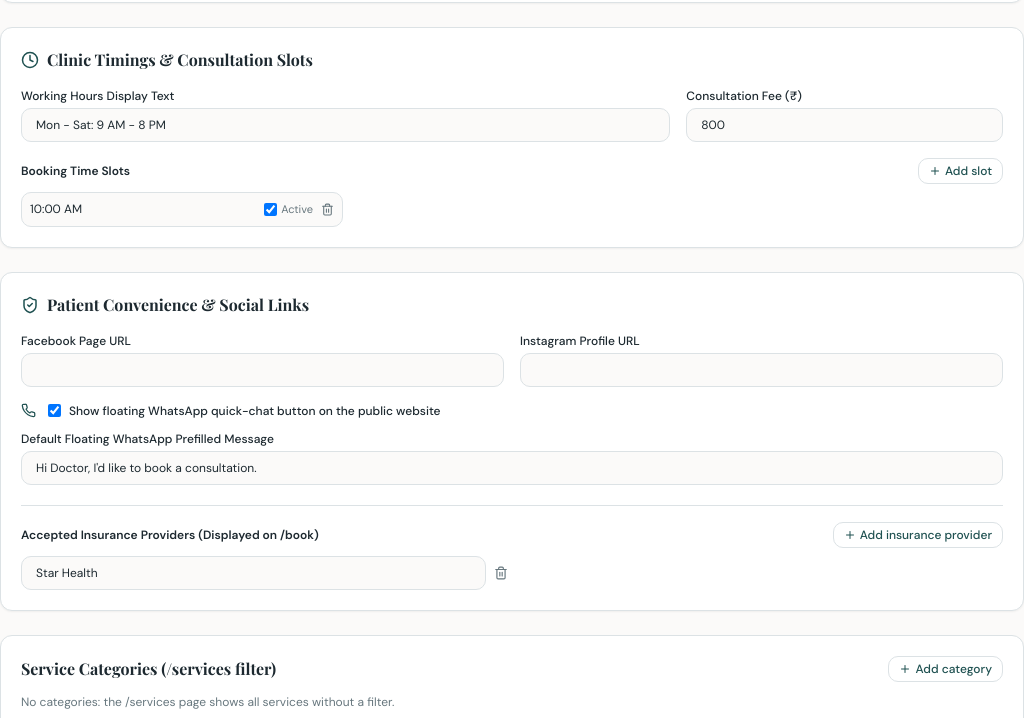
Test case: Clinic Information draft workflow (005c) › CLINIC-DRAFT-04: invalid links are stopped before submission
This screenshot has width=1024, height=718.
(page scrolled)
Type "javascript:alert(1)" into the field labelled "Facebook Page URL" at point(262, 370), box [21,352,504,386]
(page scrolled)
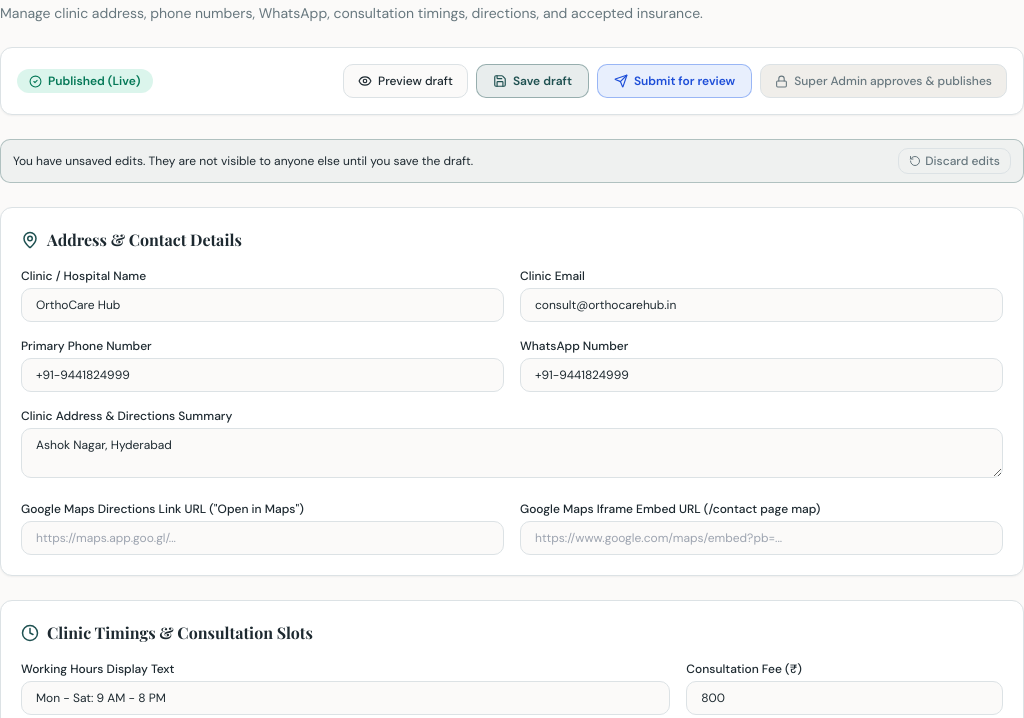
Click the button "Submit for review" at point(675, 81), box [597,64,752,98]
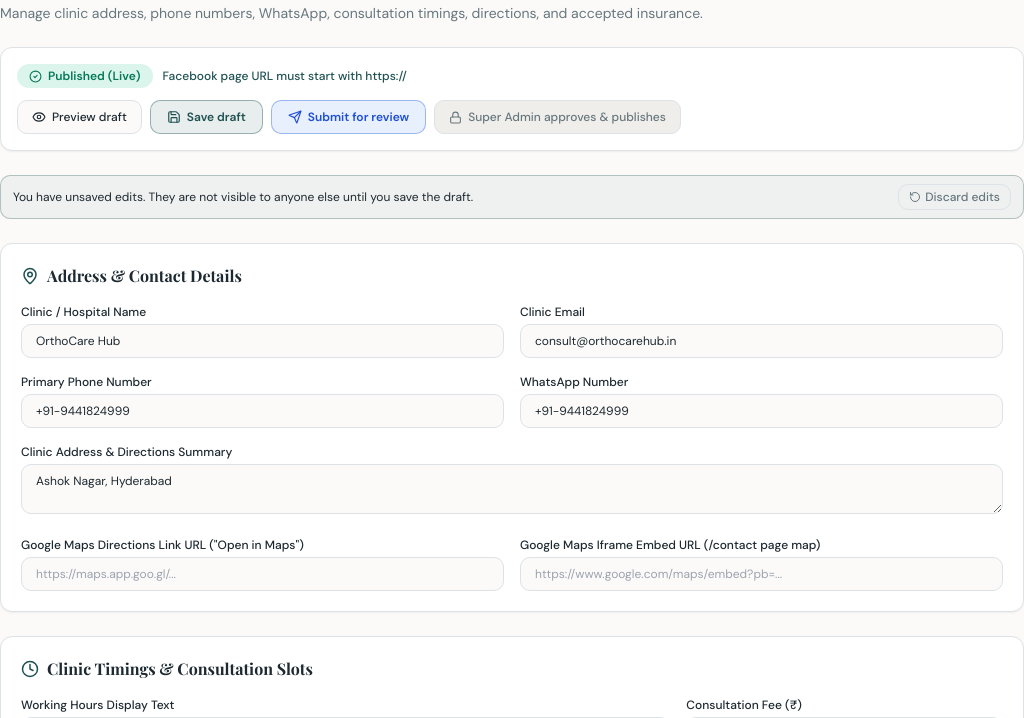
Result: the text "Facebook page URL must start with https://" is shown at [162,68,407,84]
